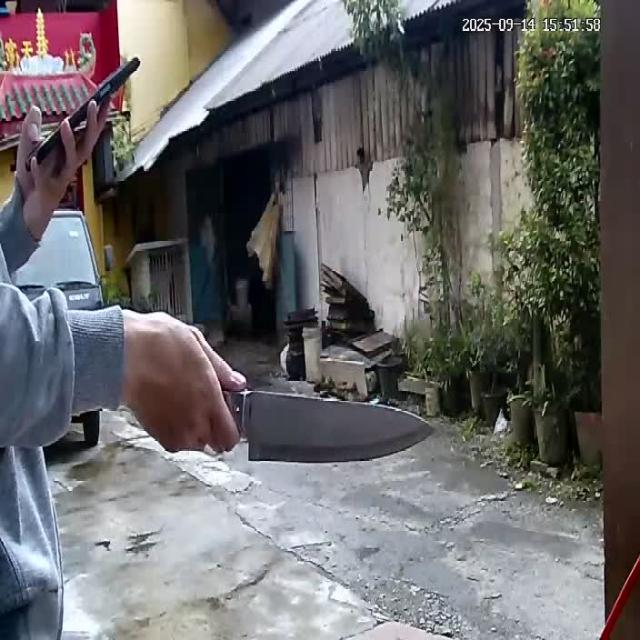senjata_tajam: (241, 389, 439, 465)
